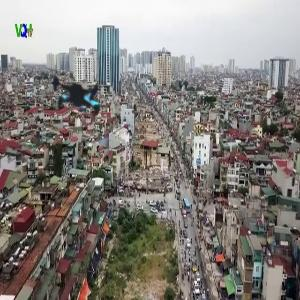drone: (23, 40, 135, 152)
